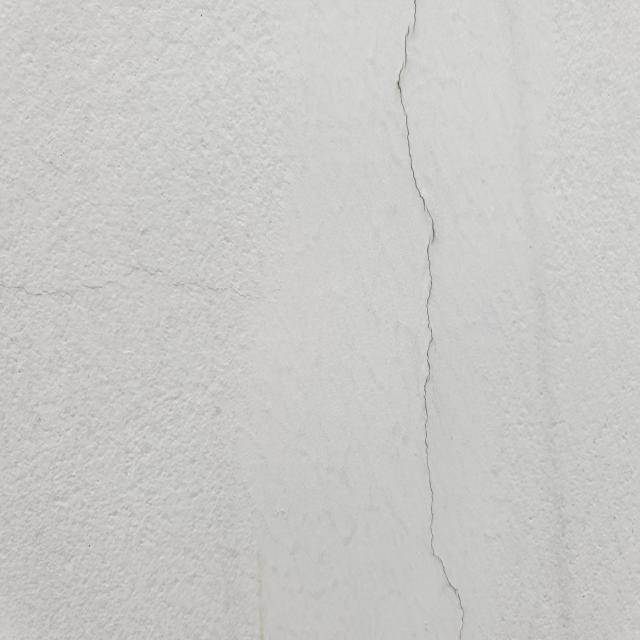SurfaceCrack: (351, 0, 514, 640), (0, 236, 624, 361)
